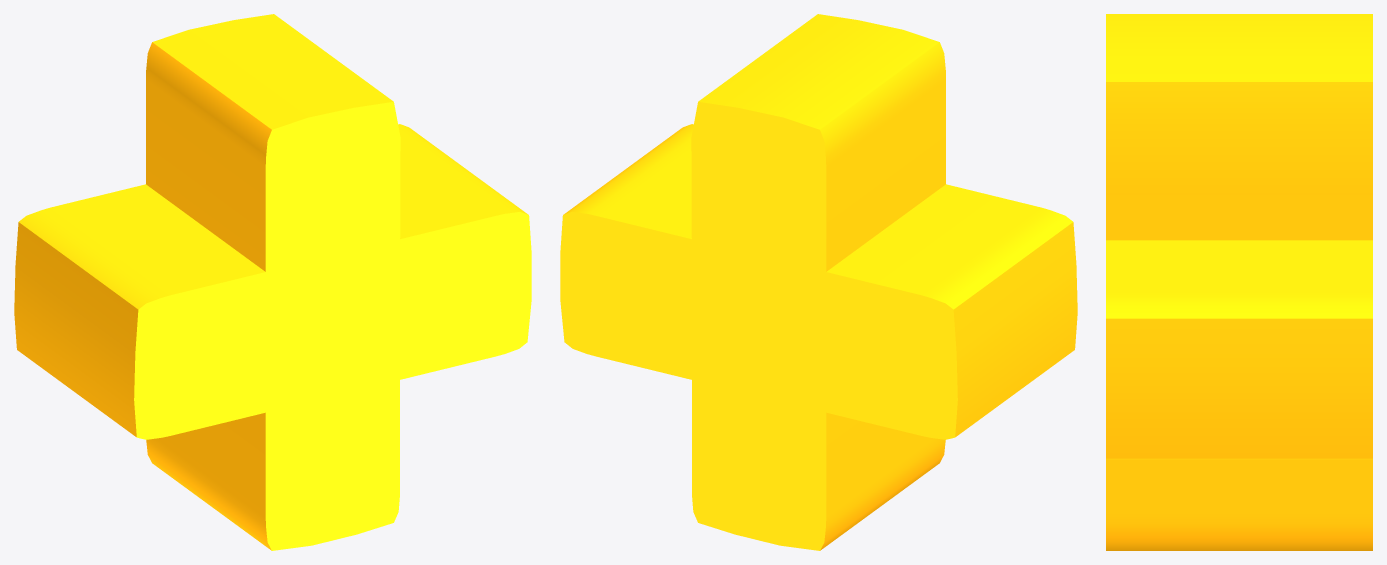
The model's file is symbol+_Zyzol_Yellow.glb.
3 views of the same model, side by side, from view 1: azimuth 30°, elevation 25°; view 2: azimuth 150°, elevation 25°; view 3: azimuth 270°, elevation 25° (orthographic). The views are drawn at different scales.
Parts seen in each view (by area): view 1: +_Zyzol_Yellow; view 2: +_Zyzol_Yellow; view 3: +_Zyzol_Yellow.
Boxes of the visible parts, x1,y1,x2,y2 form: +_Zyzol_Yellow: [14, 14, 531, 550]; +_Zyzol_Yellow: [560, 14, 1077, 550]; +_Zyzol_Yellow: [1106, 14, 1372, 550].
Size of what is drawn, in the model's own units: 0.0862 by 0.0888 by 0.045.
2 materials, 2 textured.
